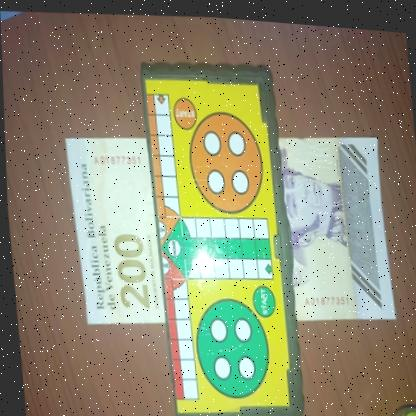two_hundred-front-vef: (63, 109, 396, 342)
